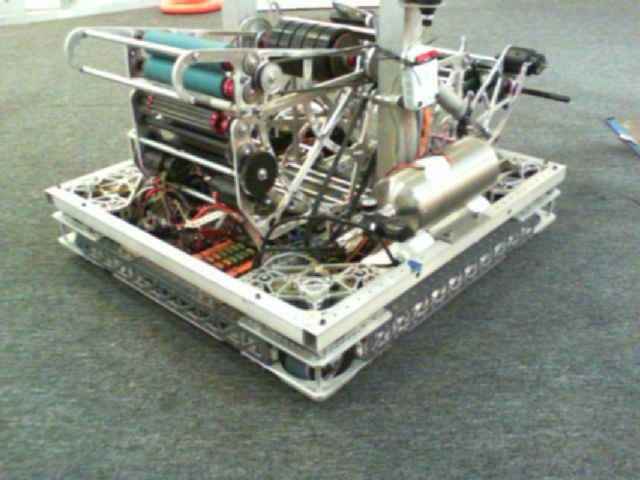Robot: (59, 13, 574, 410)
